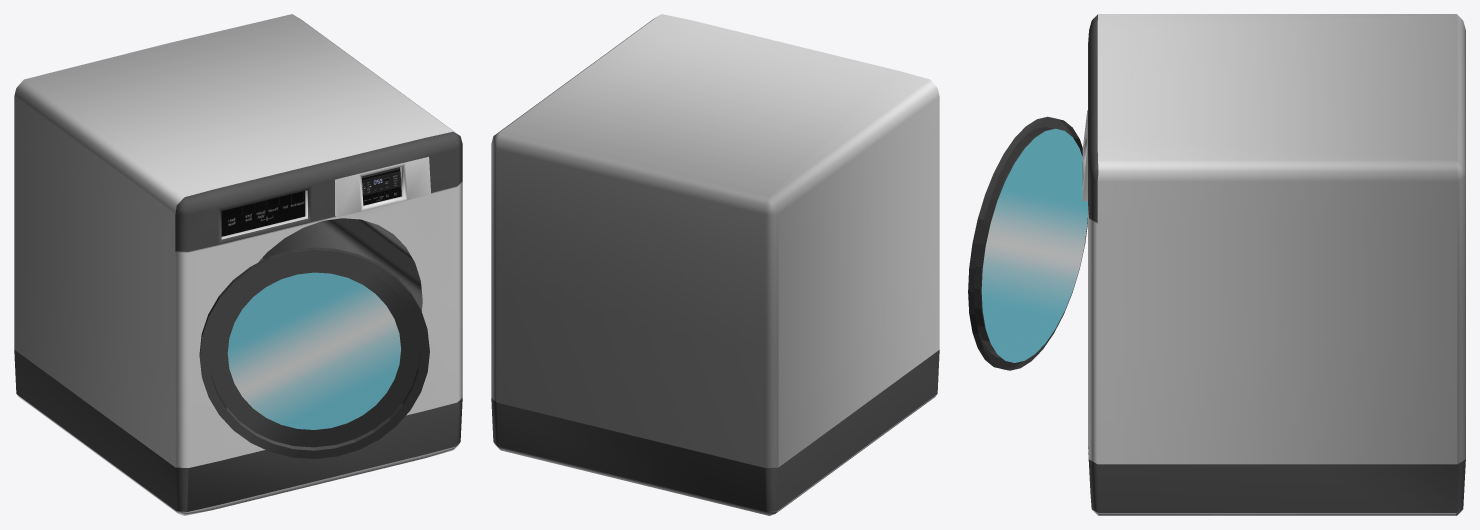
Rendered from ELT0110037.fbx.
3 renders of one model, left to right at view 1: azimuth 30°, elevation 25°; view 2: azimuth 150°, elevation 25°; view 3: azimuth 270°, elevation 25°, orthographic. The views are drawn at different scales.
Visible parts, largest first — view 1: smELT0110037; view 2: smELT0110037; view 3: smELT0110037.
Boxes of the visible parts, bbox=[...] form: smELT0110037: bbox=[14, 14, 462, 515]; smELT0110037: bbox=[491, 14, 939, 515]; smELT0110037: bbox=[968, 14, 1465, 515].
Size of the model in its own units: 114 by 122 by 154.
Materials: 1 (1 with a texture image).
